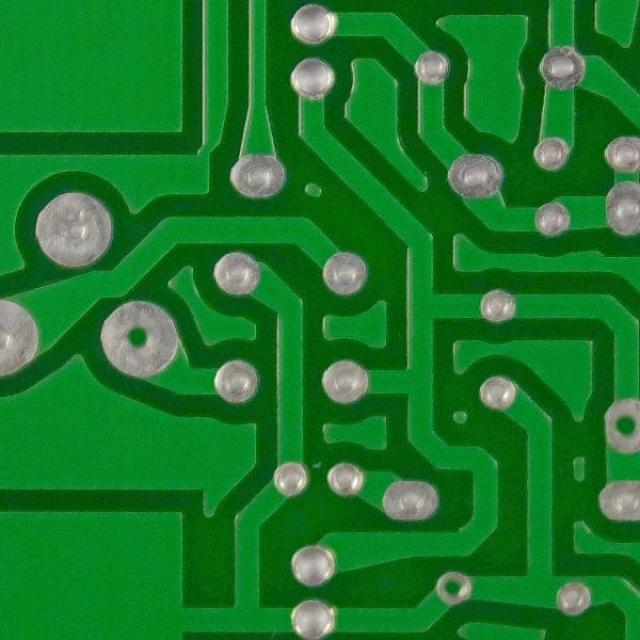Missing_Hole: (102, 306, 172, 372), (597, 397, 640, 453), (430, 569, 475, 608)
